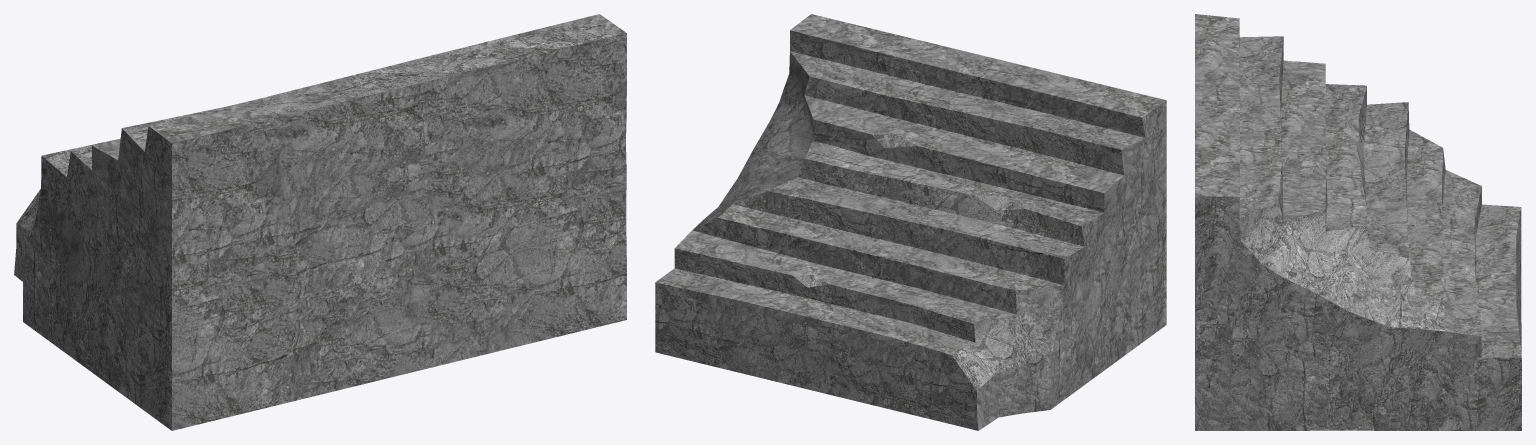
File: materials_3_stairs_2.fbx
3 views of the same model, side by side, from view 1: azimuth 30°, elevation 25°; view 2: azimuth 150°, elevation 25°; view 3: azimuth 270°, elevation 25° (orthographic). The views are drawn at different scales.
Visible parts, largest first — view 1: materials_3_stairs_2; view 2: materials_3_stairs_2; view 3: materials_3_stairs_2.
Boxes of the visible parts, bbox=[...] form: materials_3_stairs_2: bbox=[14, 14, 626, 430]; materials_3_stairs_2: bbox=[655, 14, 1166, 430]; materials_3_stairs_2: bbox=[1195, 14, 1521, 430].
Bounding box in the file's own units: 234 × 141 × 178.
